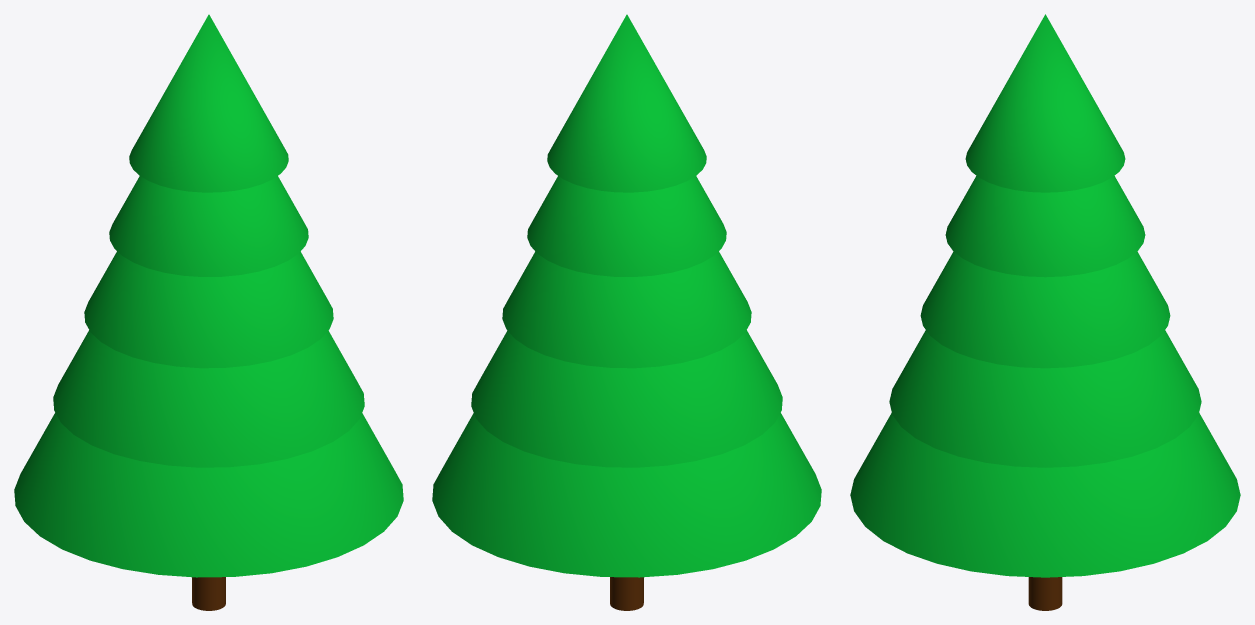
The model's file is spruce.glb.
3 views of the same model, side by side, from view 1: azimuth 30°, elevation 25°; view 2: azimuth 150°, elevation 25°; view 3: azimuth 270°, elevation 25° (orthographic).
Parts seen in each view (by area): view 1: Cone.004_5, Cone.003_4, Cone.002_3, Cone_1, Cone.001_2, Cylinder_0; view 2: Cone.004_5, Cone.003_4, Cone.002_3, Cone_1, Cone.001_2, Cylinder_0; view 3: Cone.004_5, Cone.003_4, Cone.002_3, Cone_1, Cone.001_2, Cylinder_0.
Part boxes in pixels (<box>): Cone.004_5: <box>14,413,403,577</box>; Cone.003_4: <box>53,330,364,467</box>; Cone.002_3: <box>84,251,333,368</box>; Cone_1: <box>129,14,288,192</box>; Cone.001_2: <box>109,176,308,276</box>; Cylinder_0: <box>192,577,225,610</box>; Cone.004_5: <box>432,413,821,577</box>; Cone.003_4: <box>471,330,782,467</box>; Cone.002_3: <box>502,251,751,368</box>; Cone_1: <box>547,14,706,192</box>; Cone.001_2: <box>527,176,726,276</box>; Cylinder_0: <box>610,577,643,610</box>; Cone.004_5: <box>850,412,1240,577</box>; Cone.003_4: <box>889,330,1201,467</box>; Cone.002_3: <box>920,251,1170,368</box>; Cone_1: <box>965,14,1125,192</box>; Cone.001_2: <box>945,176,1145,277</box>; Cylinder_0: <box>1028,577,1062,610</box>.
Bounding box in the file's own units: 4.88 × 8.14 × 4.88.
